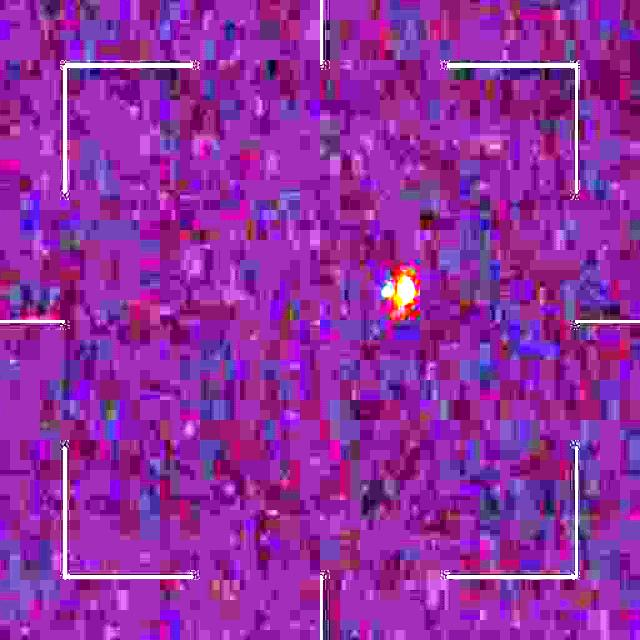bird: (382, 269, 416, 321)
